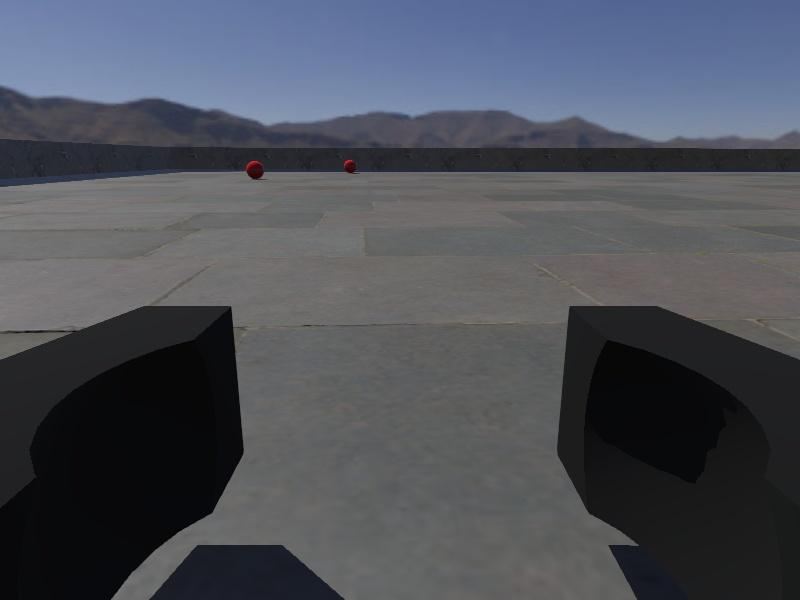red ball: (245, 159, 265, 181), (342, 158, 358, 174)
